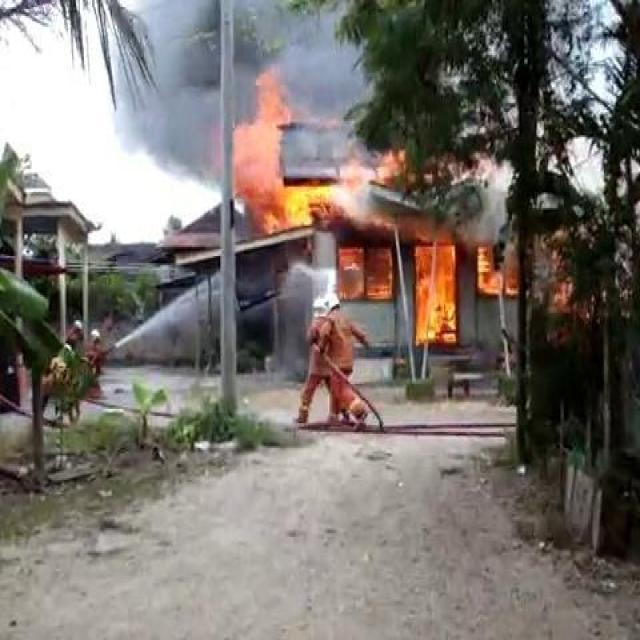fire: (232, 75, 351, 232), (412, 234, 457, 346), (338, 240, 394, 302), (478, 246, 500, 294)
smoke: (128, 5, 222, 186), (248, 3, 337, 68)
